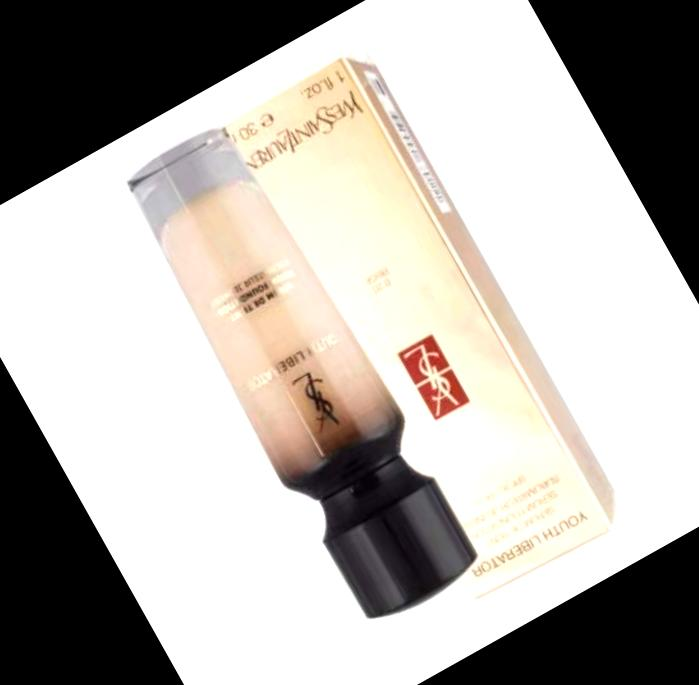cosmetic: (111, 113, 484, 626)
